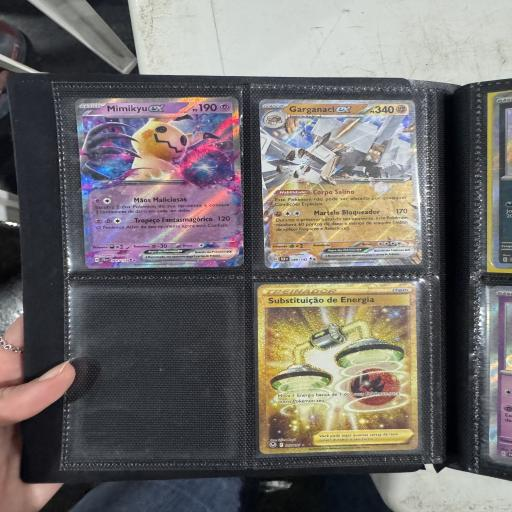card: (74, 96, 245, 269), (258, 94, 424, 270), (257, 282, 419, 453)
